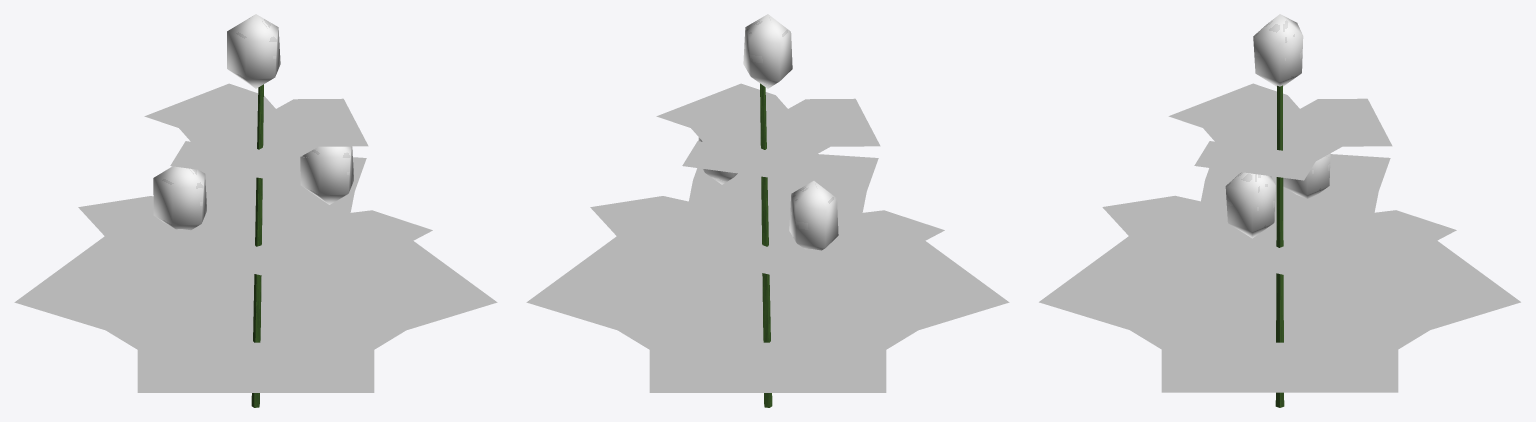
The model's file is hybrid_3_lod.obj.
3 renders of one model, left to right at view 1: azimuth 30°, elevation 25°; view 2: azimuth 150°, elevation 25°; view 3: azimuth 270°, elevation 25°, orthographic.
Parts seen in each view (by area): view 1: plant; view 2: plant; view 3: plant.
Part boxes in pixels (x1=…): plant: x1=14, y1=14, x2=497, y2=407; plant: x1=526, y1=14, x2=1009, y2=407; plant: x1=1039, y1=14, x2=1520, y2=407.
Size of the model in its own units: 0.9489 by 0.9814 by 1.1.
